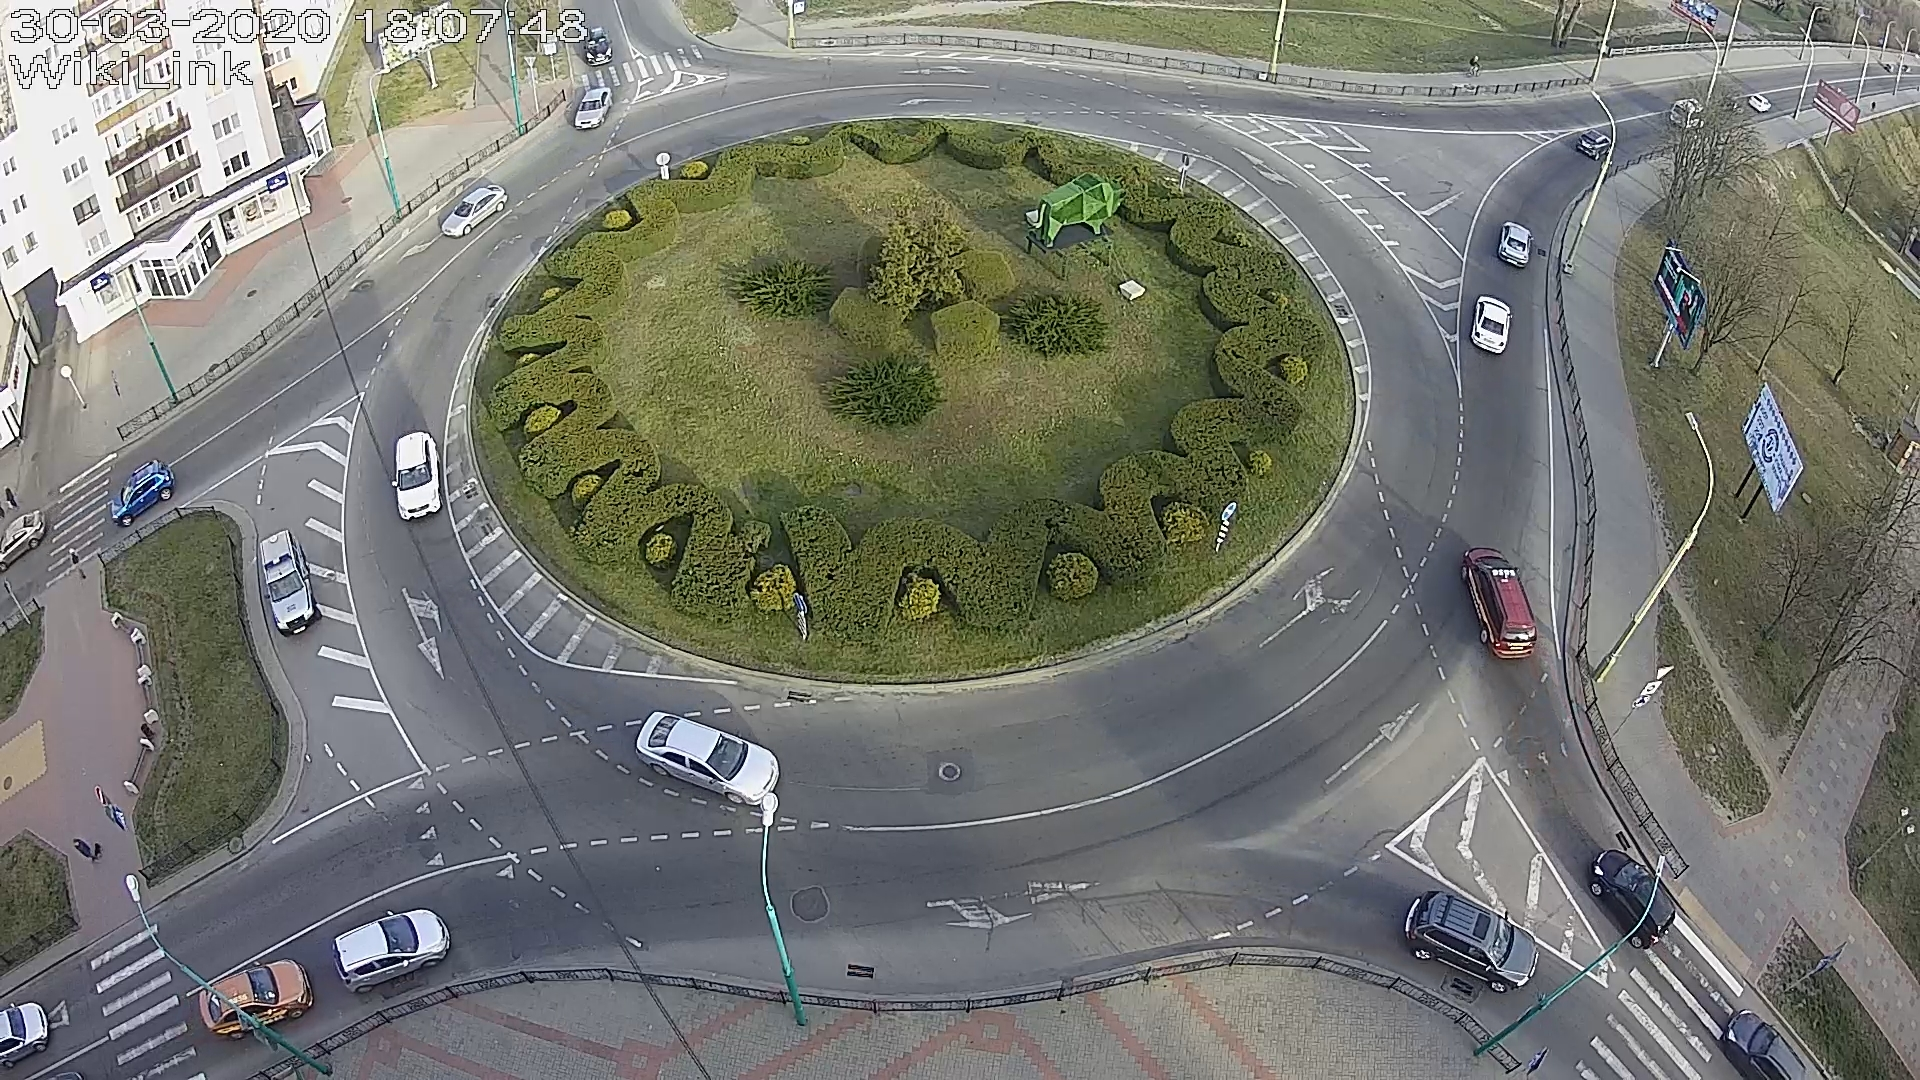car: (636, 711, 781, 806), (1404, 891, 1538, 994), (331, 909, 451, 994), (198, 959, 314, 1040), (1461, 547, 1538, 661), (1588, 851, 1675, 949), (258, 530, 320, 637), (392, 431, 443, 521), (109, 459, 175, 527), (440, 185, 508, 237), (1469, 294, 1513, 355), (574, 87, 613, 131), (1498, 222, 1534, 269), (1576, 128, 1617, 161), (585, 26, 613, 67)
